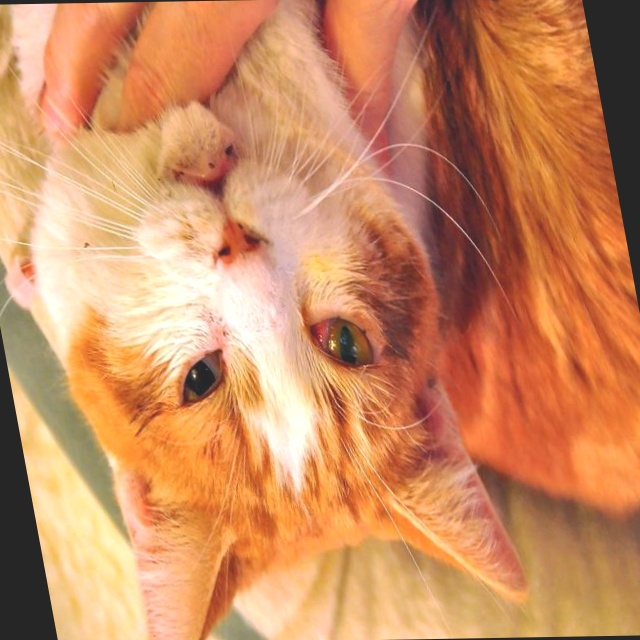eye_infection: (301, 309, 381, 373), (173, 345, 238, 406)
